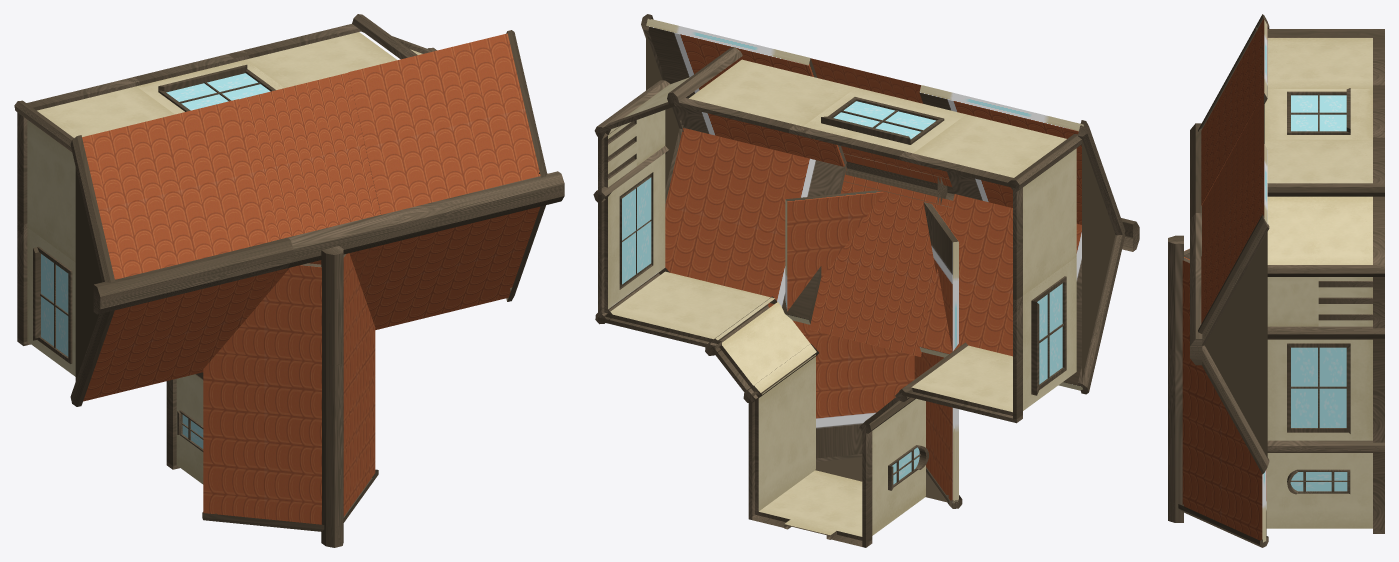
File: HouseLittleT.fbx
3 views of the same model, side by side, from view 1: azimuth 30°, elevation 25°; view 2: azimuth 150°, elevation 25°; view 3: azimuth 270°, elevation 25° (orthographic). The views are drawn at different scales.
Visible parts, largest first — view 1: HouseLittle2; view 2: HouseLittle2; view 3: HouseLittle2.
Part boxes in pixels (left/top/right/bottom): HouseLittle2: left=14, top=14, right=564, bottom=547; HouseLittle2: left=593, top=14, right=1139, bottom=547; HouseLittle2: left=1168, top=14, right=1384, bottom=547.
Size of the model in its own units: 12.75 by 11.19 by 5.41.
Materials: 1 (1 with a texture image).
